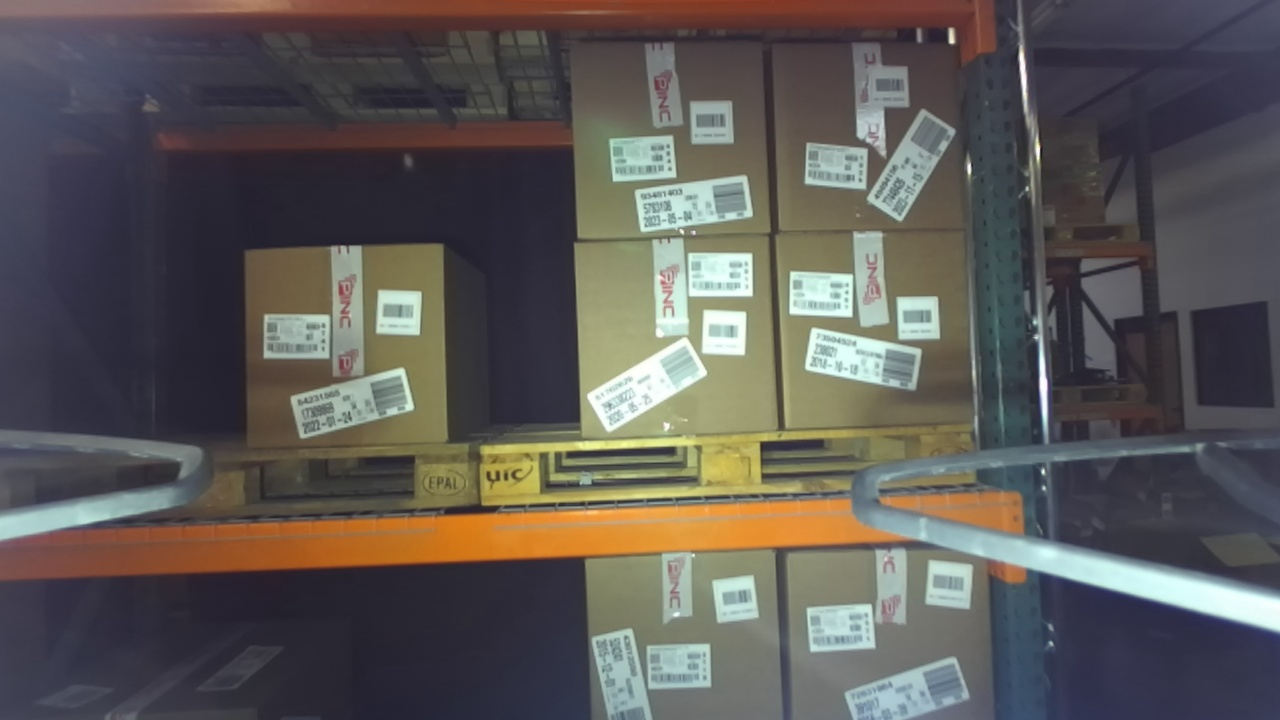box: (538, 16, 796, 264), (752, 206, 1002, 454), (542, 216, 800, 456), (741, 20, 987, 268), (222, 226, 471, 470), (757, 521, 1013, 720), (561, 530, 812, 720)
